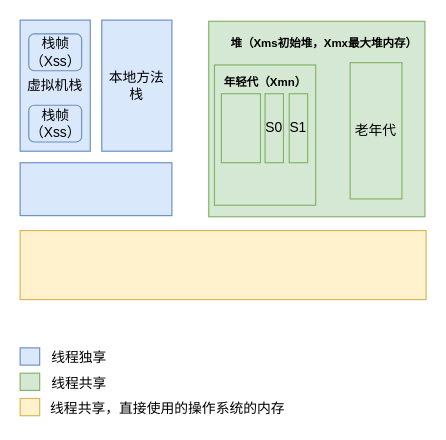
The diagram is 446 pixels wide and 440 high, and some of its shapes have lost their labels. Here are the shapes that lost their labels. From the top down, the centre of each, then its label:
the point at 240,128: Eden
the point at 95,189: PC 程序计数器
the point at 222,264: 元空间+直接内存（meta，direct memory）
